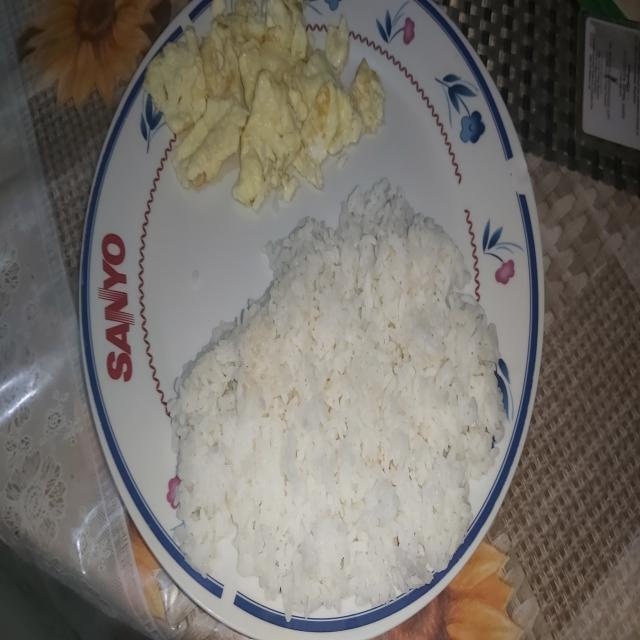Chicken -Chicken Inasal-: (191, 190, 492, 596)
